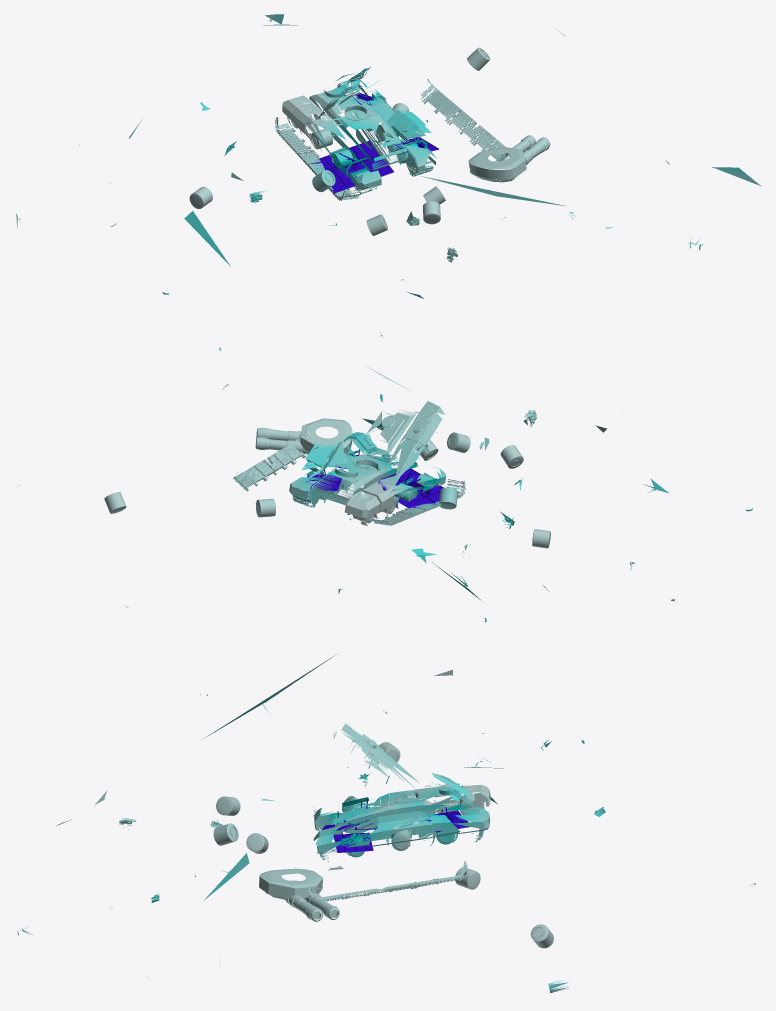
Rendered from storm_wreck.glb.
The picture shows the model from 3 angles, top to bottom: view 1: azimuth 30°, elevation 25°; view 2: azimuth 150°, elevation 25°; view 3: azimuth 270°, elevation 25°; orthographic projection. The views are drawn at different scales.
Parts seen in each view (by area): view 1: TankG, wrecked_track_l, TankGTurret, frame, wrecked_track_r, TankG_plate, TankGguns; view 2: TankG, TankG_plate (×2), wrecked_track_l, TankGTurret, TankGguns, wrecked_track_r, frame; view 3: TankG, TankGTurret, TankGguns, TankG_plate, wrecked_track_l.
Part boxes in pixels (bbox=[...]): TankG: bbox=[282, 78, 436, 193]; wrecked_track_l: bbox=[420, 79, 509, 161]; TankGTurret: bbox=[468, 132, 526, 182]; frame: bbox=[310, 141, 393, 193]; wrecked_track_r: bbox=[275, 117, 361, 200]; TankG_plate: bbox=[386, 109, 431, 145]; TankGguns: bbox=[499, 135, 550, 164]; TankG: bbox=[289, 447, 446, 526]; TankG_plate (×2): bbox=[302, 401, 444, 481]; wrecked_track_l: bbox=[233, 433, 310, 491]; TankGTurret: bbox=[301, 418, 352, 458]; TankGguns: bbox=[255, 422, 313, 452]; wrecked_track_r: bbox=[371, 479, 465, 525]; frame: bbox=[378, 468, 443, 509]; TankG: bbox=[313, 783, 490, 861]; TankGTurret: bbox=[259, 865, 343, 903]; TankGguns: bbox=[282, 882, 339, 921]; TankG_plate: bbox=[333, 723, 419, 788]; wrecked_track_l: bbox=[308, 861, 467, 901].
Size of the model in its own units: 43.68 by 6.68 by 43.05.
